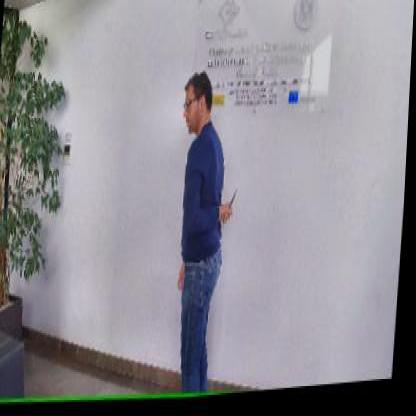knife: (221, 187, 240, 233)
